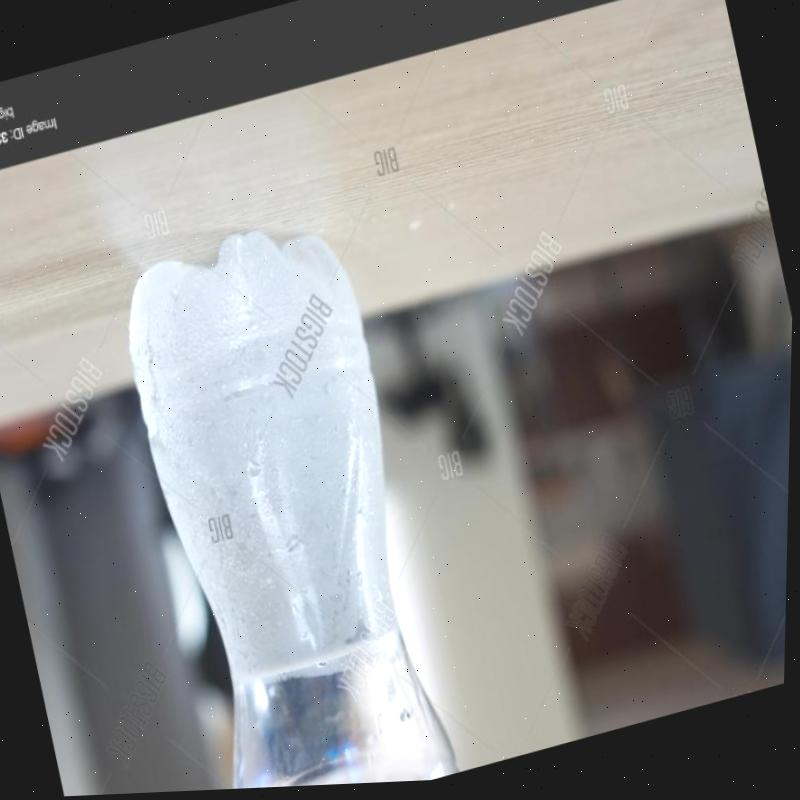botella: (100, 206, 472, 796)
